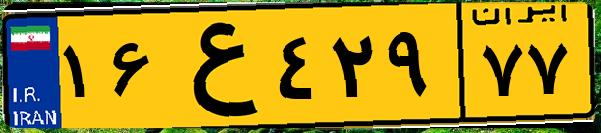1: (57, 26, 110, 100)
2: (330, 28, 385, 110)
4: (270, 28, 330, 110)
6: (110, 28, 158, 98)
7: (475, 38, 525, 113), (525, 38, 570, 115)
9: (385, 28, 445, 110)
ع: (158, 12, 270, 120)
